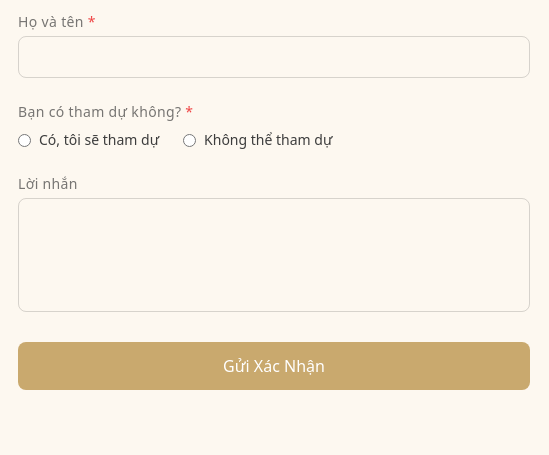
RSVPForm › shows validation error when name is empty on submit
This screenshot has width=549, height=455.
Click the button "Gửi Xác Nhận": click(274, 366) [18,342,530,390]
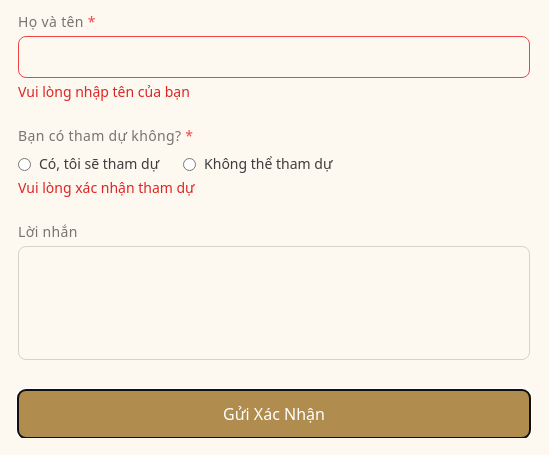
Now the text "Vui lòng nhập tên của bạn" is shown, box [18,82,190,101]
